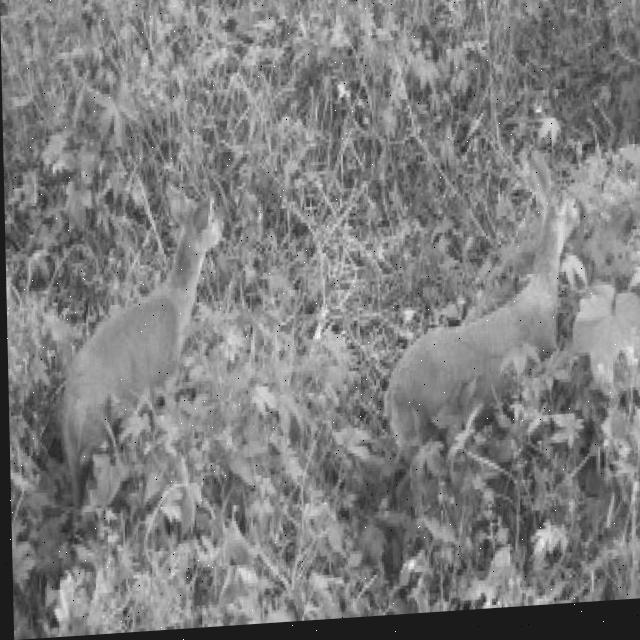Deer: (367, 139, 592, 504), (47, 163, 241, 549)
